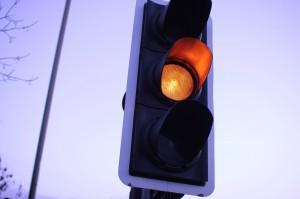yellow_light: (118, 0, 214, 196)
